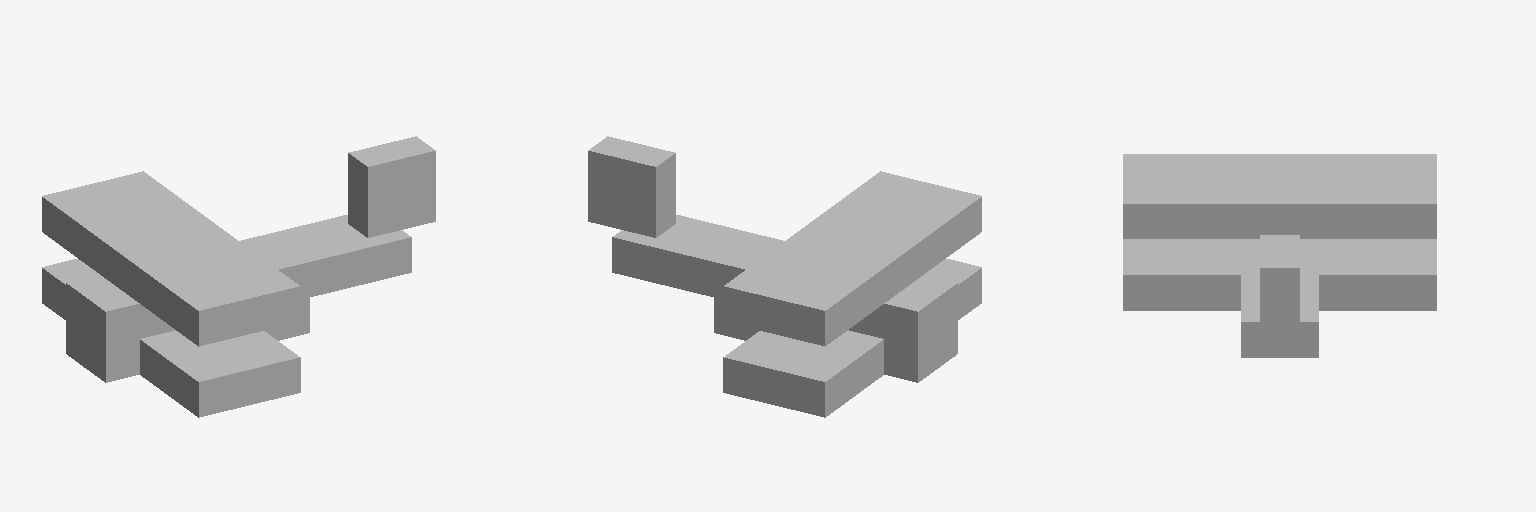
The model's file is Biplane.obj.
3 renders of one model, left to right at view 1: azimuth 30°, elevation 25°; view 2: azimuth 150°, elevation 25°; view 3: azimuth 270°, elevation 25°, orthographic.
Bounding box in the file's own units: 10 × 4 × 8.